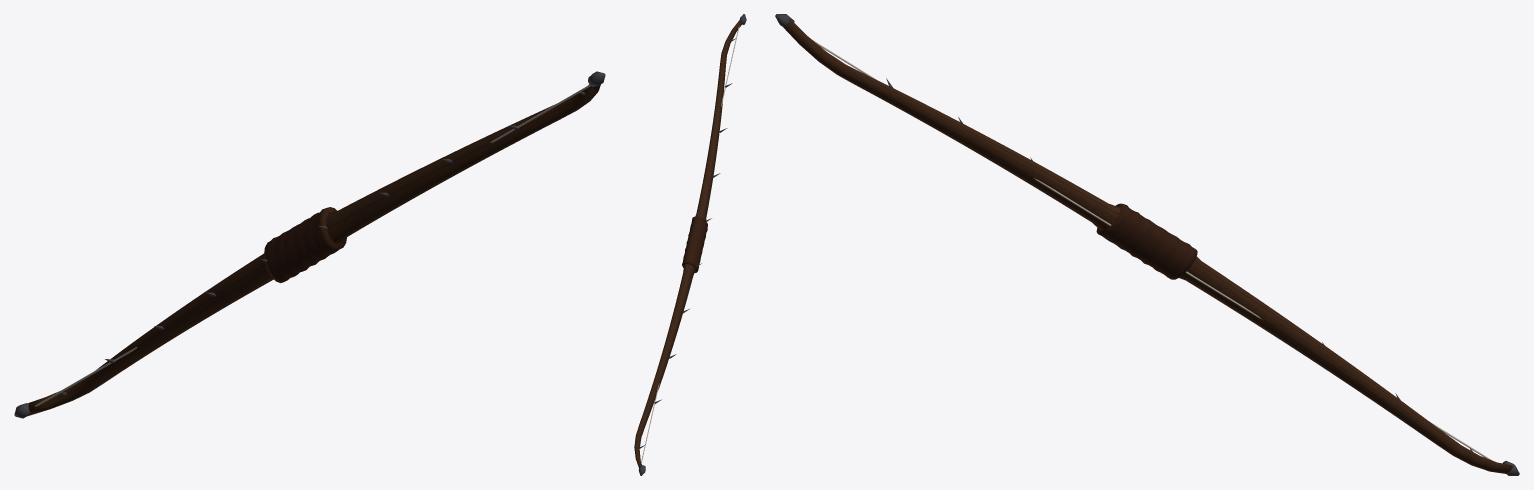
Rendered from weapon_thorn_wicker.glb.
The picture shows the model from 3 angles, left to right: view 1: azimuth 30°, elevation 25°; view 2: azimuth 150°, elevation 25°; view 3: azimuth 270°, elevation 25°; orthographic projection. The views are drawn at different scales.
Parts seen in each view (by area): view 1: thorn_wicker; view 2: thorn_wicker; view 3: thorn_wicker.
Part boxes in pixels (x1=…): thorn_wicker: x1=14, y1=71, x2=605, y2=418; thorn_wicker: x1=634, y1=14, x2=746, y2=475; thorn_wicker: x1=775, y1=14, x2=1519, y2=475.
Bounding box in the file's own units: 0.275 × 0.7448 × 0.9164.
Materials: 4 (3 with a texture image).
